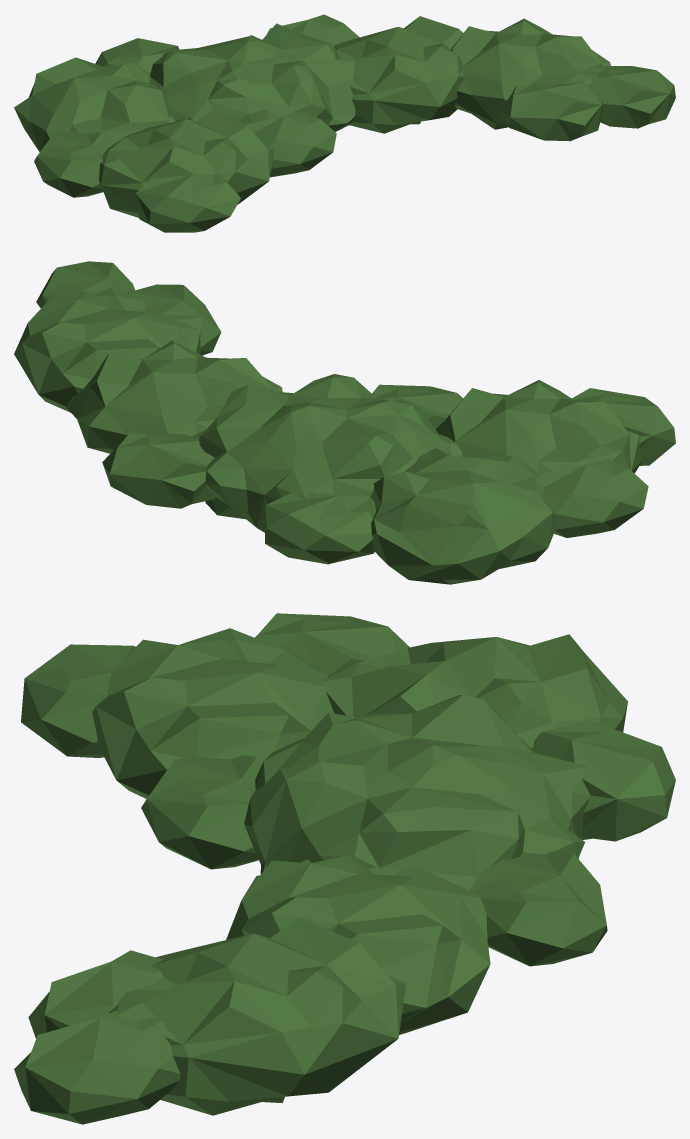
File: SM_Env_Tree_Canopy_04.fbx
3 views of the same model, one above another, from view 1: azimuth 30°, elevation 25°; view 2: azimuth 150°, elevation 25°; view 3: azimuth 270°, elevation 25° (orthographic). The views are drawn at different scales.
Parts seen in each view (by area): view 1: SM_Env_Tree_Canopy_04; view 2: SM_Env_Tree_Canopy_04; view 3: SM_Env_Tree_Canopy_04.
Part boxes in pixels (x1,y1,x2,y2): SM_Env_Tree_Canopy_04: (14, 14, 675, 232); SM_Env_Tree_Canopy_04: (14, 261, 675, 584); SM_Env_Tree_Canopy_04: (14, 613, 675, 1124).
Size of the model in its own units: 24.65 by 4.54 by 14.57.
